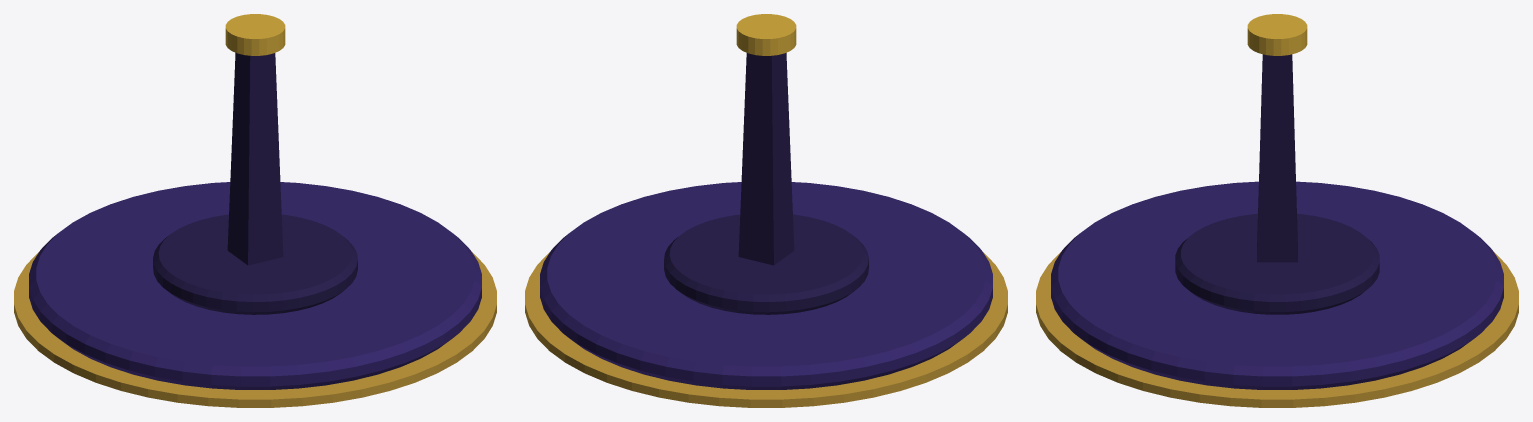
The model's file is wheel_stand.glb.
3 views of the same model, side by side, from view 1: azimuth 30°, elevation 25°; view 2: azimuth 150°, elevation 25°; view 3: azimuth 270°, elevation 25° (orthographic).
Visible parts, largest first — view 1: stage, step, trim, post, axle; view 2: stage, step, trim, post, axle; view 3: stage, step, trim, post, axle.
Boxes of the visible parts, x1=… form: stage: x1=29, y1=182, x2=481, y2=389; step: x1=153, y1=214, x2=357, y2=314; trim: x1=14, y1=252, x2=496, y2=407; post: x1=227, y1=53, x2=283, y2=265; axle: x1=225, y1=14, x2=285, y2=55; stage: x1=540, y1=182, x2=992, y2=389; step: x1=664, y1=214, x2=868, y2=314; trim: x1=525, y1=252, x2=1007, y2=407; post: x1=738, y1=53, x2=794, y2=265; axle: x1=736, y1=14, x2=796, y2=55; stage: x1=1051, y1=181, x2=1503, y2=389; step: x1=1175, y1=213, x2=1379, y2=314; trim: x1=1036, y1=252, x2=1518, y2=407; post: x1=1257, y1=54, x2=1297, y2=262; axle: x1=1247, y1=14, x2=1307, y2=55.
Size of the model in its own units: 2.6 by 1.66 by 2.6.
